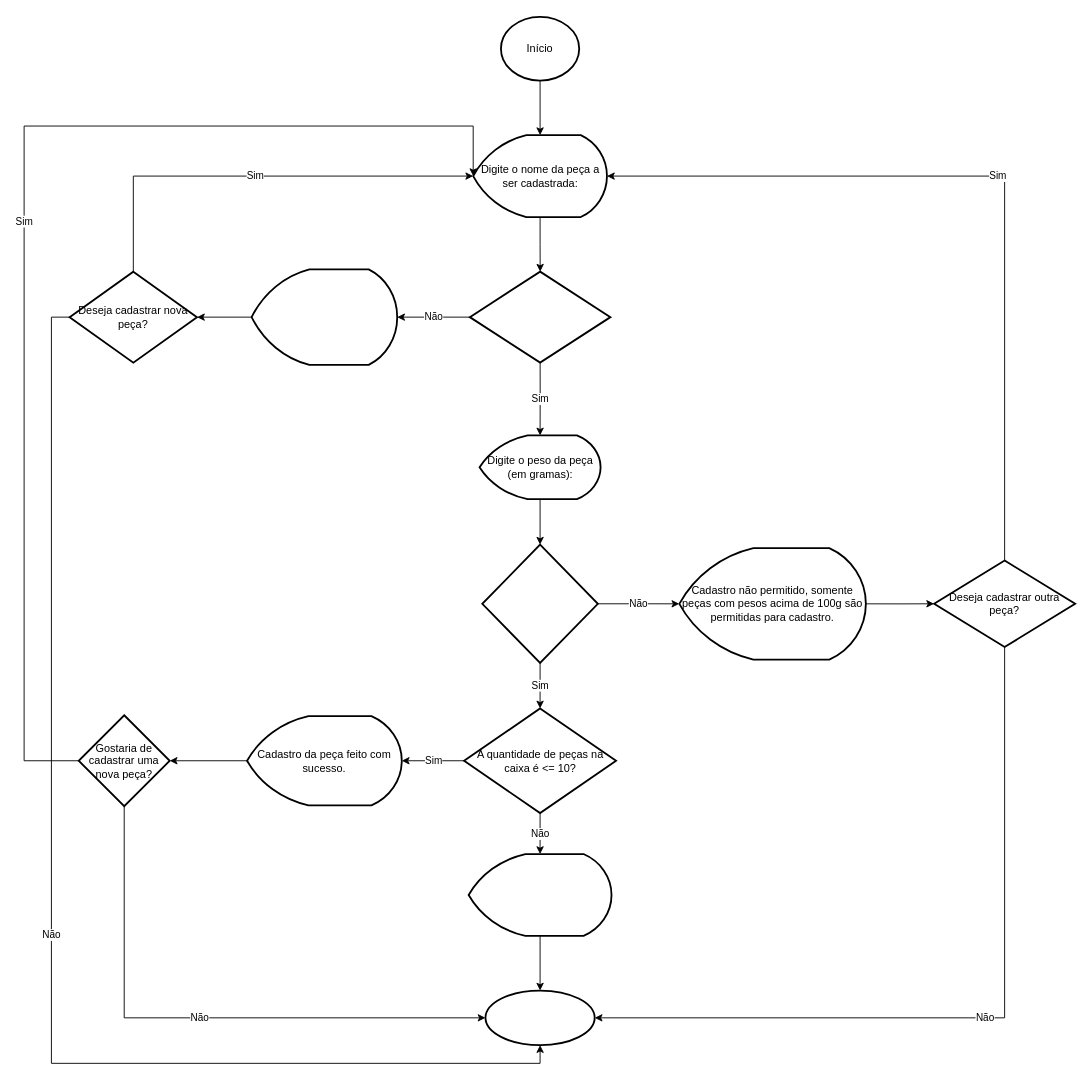
Some shapes in this 1092 by 1087 pixel diagram are drawn without their labels. Here are the shapes that lost their labels. From the top down, the centre of each, then its label:
pixel 324 316: Cadastro não permitido, o nome deve possui pelo menos 3 caracteres.
pixel 539 316: O nome possui >= 3 caracteres?
pixel 539 603: O peso da peça é > 100?
pixel 539 894: Cadastro não permitido, capacidade da caixa insuficiente.
pixel 539 1017: Fim
